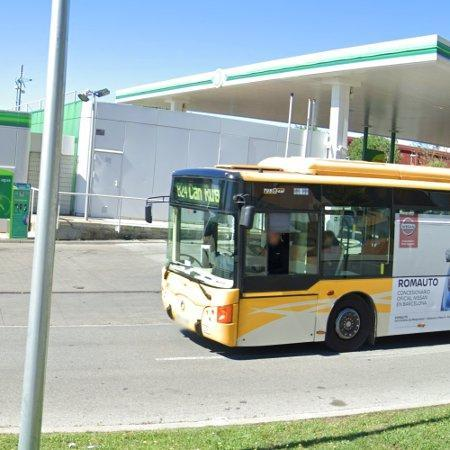buses: (162, 158, 450, 352)
